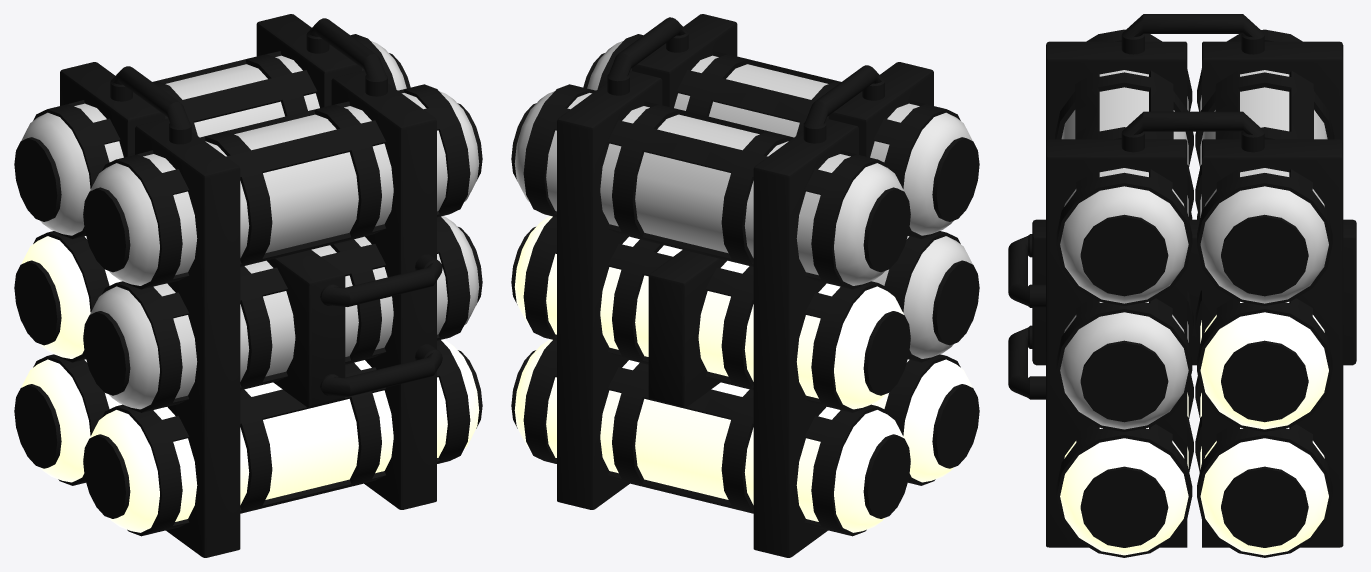
The model's file is Ielsek Crate Half Full.fbx.
The picture shows the model from 3 angles, left to right: view 1: azimuth 30°, elevation 25°; view 2: azimuth 150°, elevation 25°; view 3: azimuth 270°, elevation 25°; orthographic projection. The views are drawn at different scales.
Visible parts, largest first — view 1: Ielsek Crate Half-Full; view 2: Ielsek Crate Half-Full; view 3: Ielsek Crate Half-Full.
Boxes of the visible parts, x1=… form: Ielsek Crate Half-Full: x1=14, y1=14, x2=482, y2=557; Ielsek Crate Half-Full: x1=511, y1=14, x2=979, y2=557; Ielsek Crate Half-Full: x1=1008, y1=14, x2=1356, y2=557.
Bounding box in the file's own units: 131 × 146 × 108.
